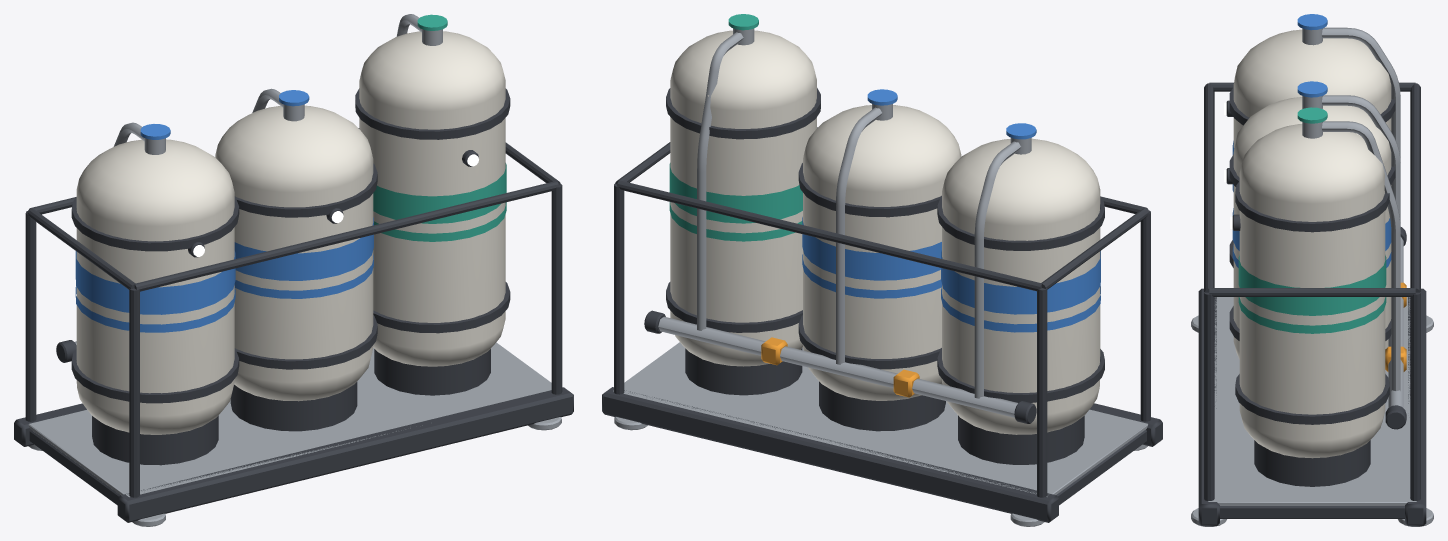
File: tanks_v4.glb
3 views of the same model, side by side, from view 1: azimuth 30°, elevation 25°; view 2: azimuth 150°, elevation 25°; view 3: azimuth 270°, elevation 25° (orthographic).
Parts seen in each view (by area): view 1: body; view 2: body; view 3: body.
Boxes of the visible parts, x1=… form: body: x1=14, y1=14, x2=573, y2=526; body: x1=602, y1=14, x2=1162, y2=526; body: x1=1191, y1=14, x2=1433, y2=526.
Size of the model in its own units: 3.4 by 2.74 by 1.6.
